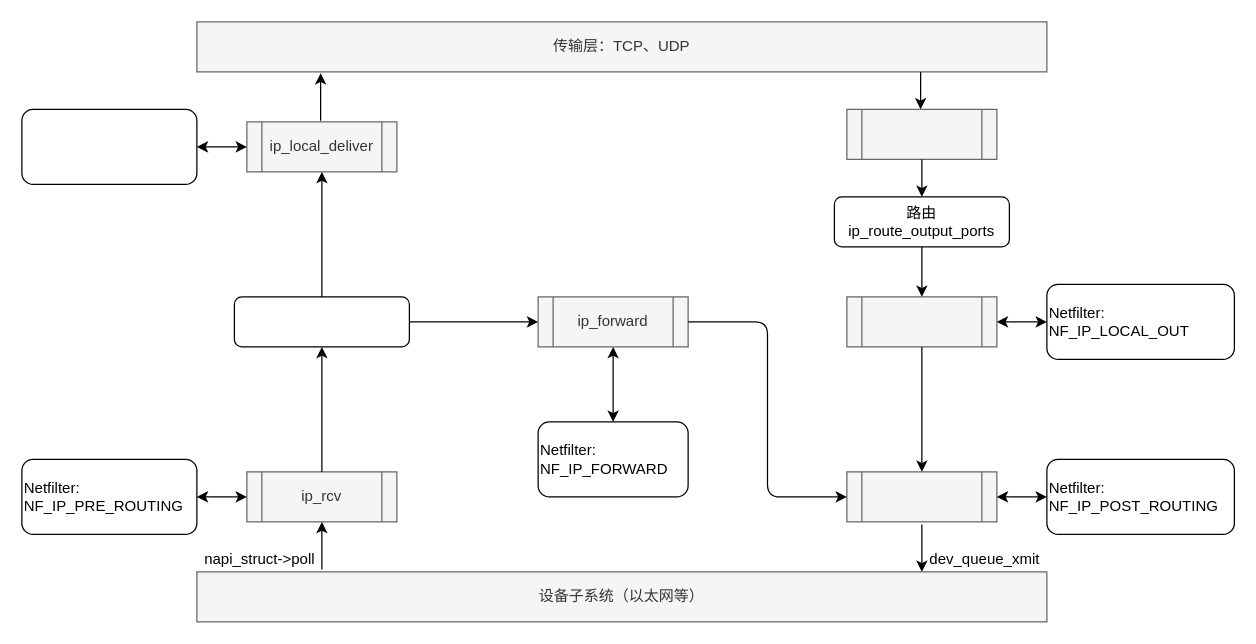
Image size: 1256x644. Some labels were removed from this diagram. Each missing label, with the box of its shape:
ip_local_out: (846, 296, 997, 347)
ip_output: (846, 471, 997, 522)
ip_queue_xmit: (846, 108, 997, 159)
Netfilter: NF_IP_LOCAL_IN: (21, 108, 197, 184)
路由决策？ ip_route_input_common: (233, 296, 409, 347)
